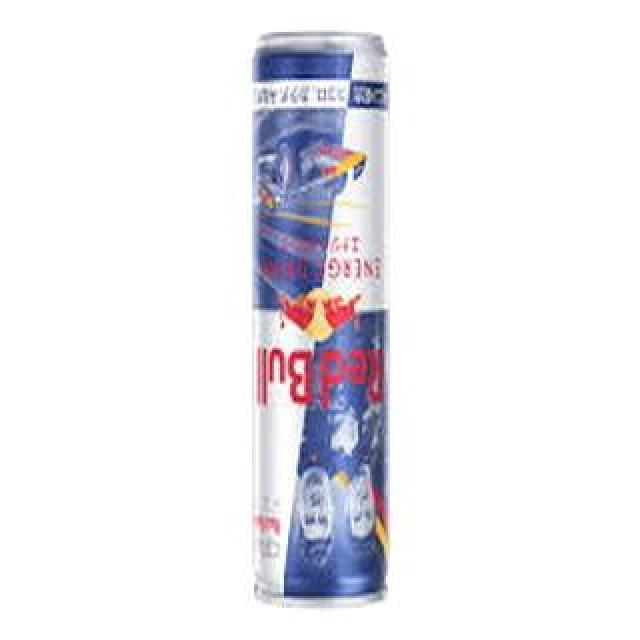Can: (232, 18, 400, 612)
